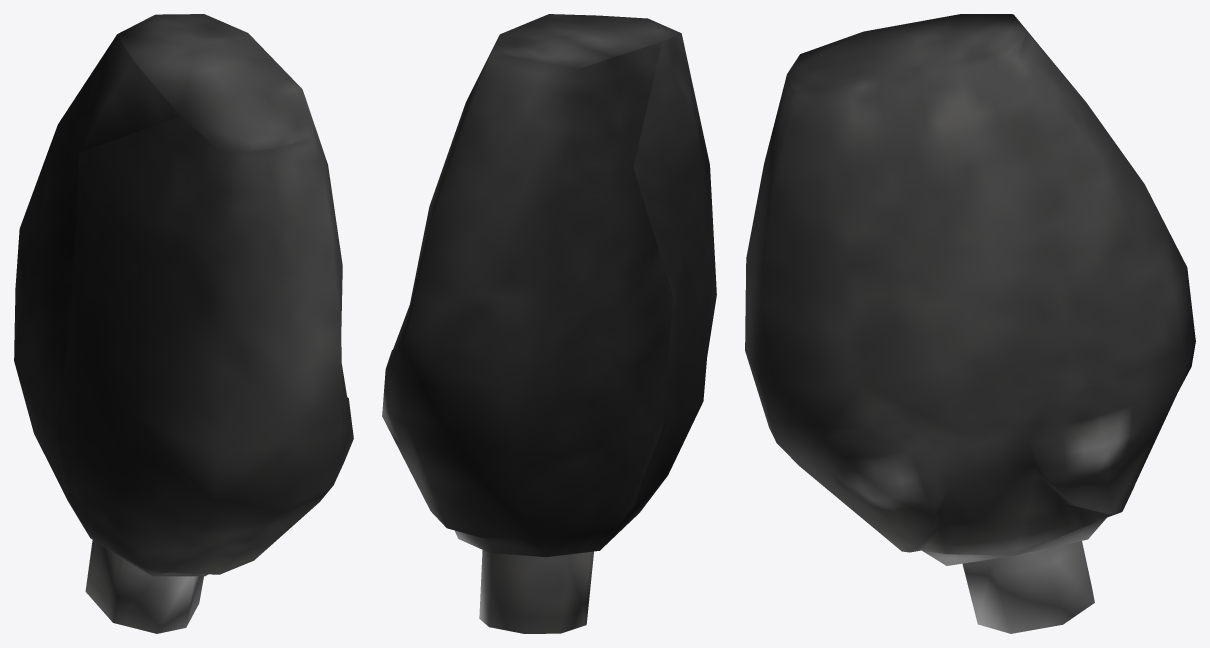
Rendered from ModularCanteen.fbx.
3 renders of one model, left to right at view 1: azimuth 30°, elevation 25°; view 2: azimuth 150°, elevation 25°; view 3: azimuth 270°, elevation 25°, orthographic. The views are drawn at different scales.
Parts seen in each view (by area): view 1: ModernMilitaryBackpackSurvival.001; view 2: ModernMilitaryBackpackSurvival.001; view 3: ModernMilitaryBackpackSurvival.001.
Part boxes in pixels (left/top/right/bottom): ModernMilitaryBackpackSurvival.001: left=14, top=14, right=353, bottom=633; ModernMilitaryBackpackSurvival.001: left=382, top=14, right=716, bottom=633; ModernMilitaryBackpackSurvival.001: left=745, top=14, right=1195, bottom=633.
Size of the model in its own units: 0.0588 by 0.1398 by 0.0969.
